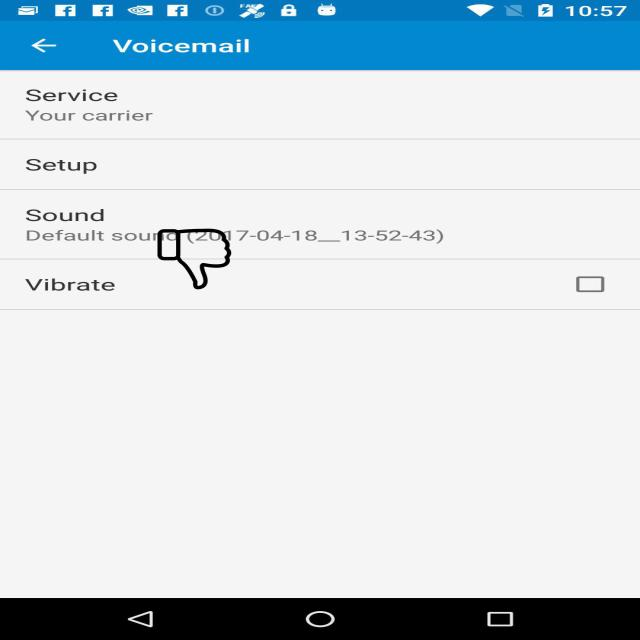obstruction: (156, 229, 232, 289)
